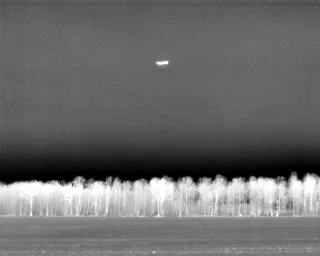DRONE: (153, 56, 173, 70)
